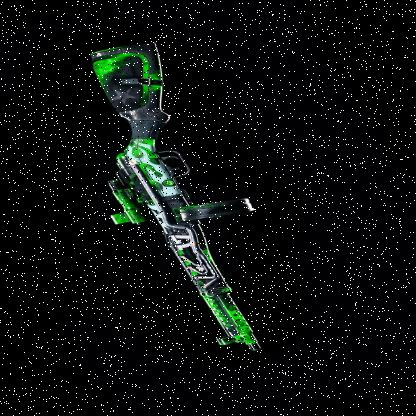rifle: (4, 34, 364, 368)
